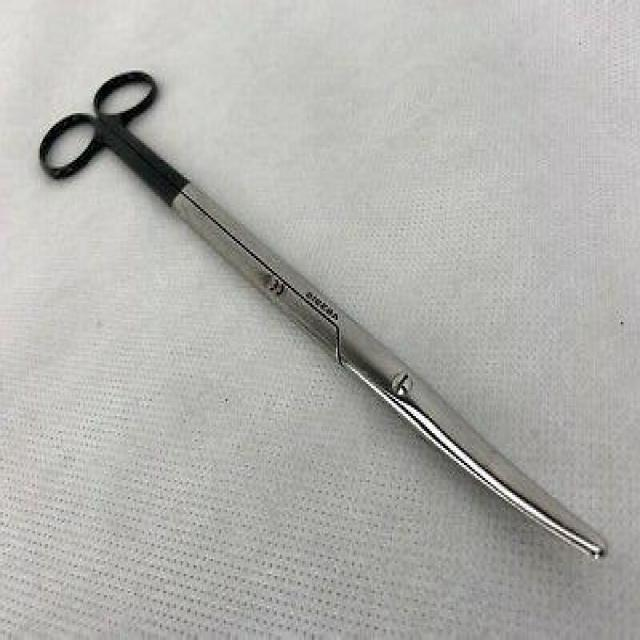Mayo_metz: (33, 66, 612, 570)
